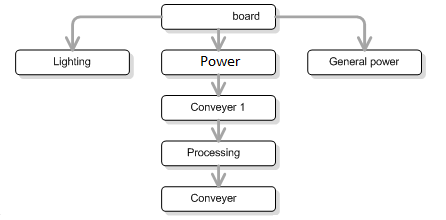arrow: (275, 13, 373, 53), (64, 13, 163, 52), (210, 28, 228, 52), (211, 118, 227, 142), (211, 73, 226, 98), (210, 164, 225, 185)
process: (305, 47, 424, 78), (159, 47, 278, 78), (159, 92, 278, 123), (159, 137, 278, 168), (13, 47, 132, 78), (159, 2, 278, 32), (159, 184, 278, 214)
text: (328, 55, 400, 70), (184, 145, 242, 160), (189, 100, 246, 114), (199, 53, 243, 69), (52, 54, 92, 70), (189, 192, 238, 205), (231, 10, 261, 22)
